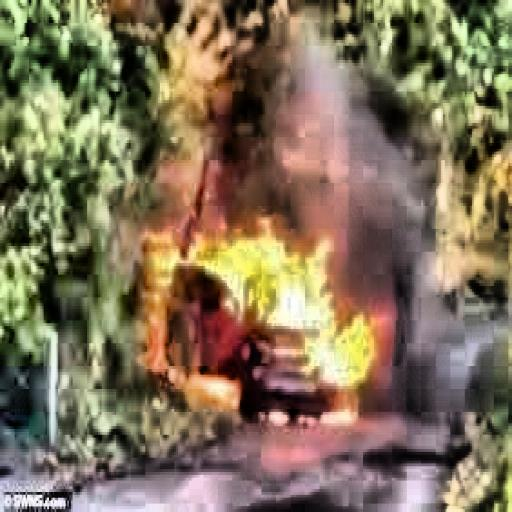fire: (140, 229, 398, 449)
